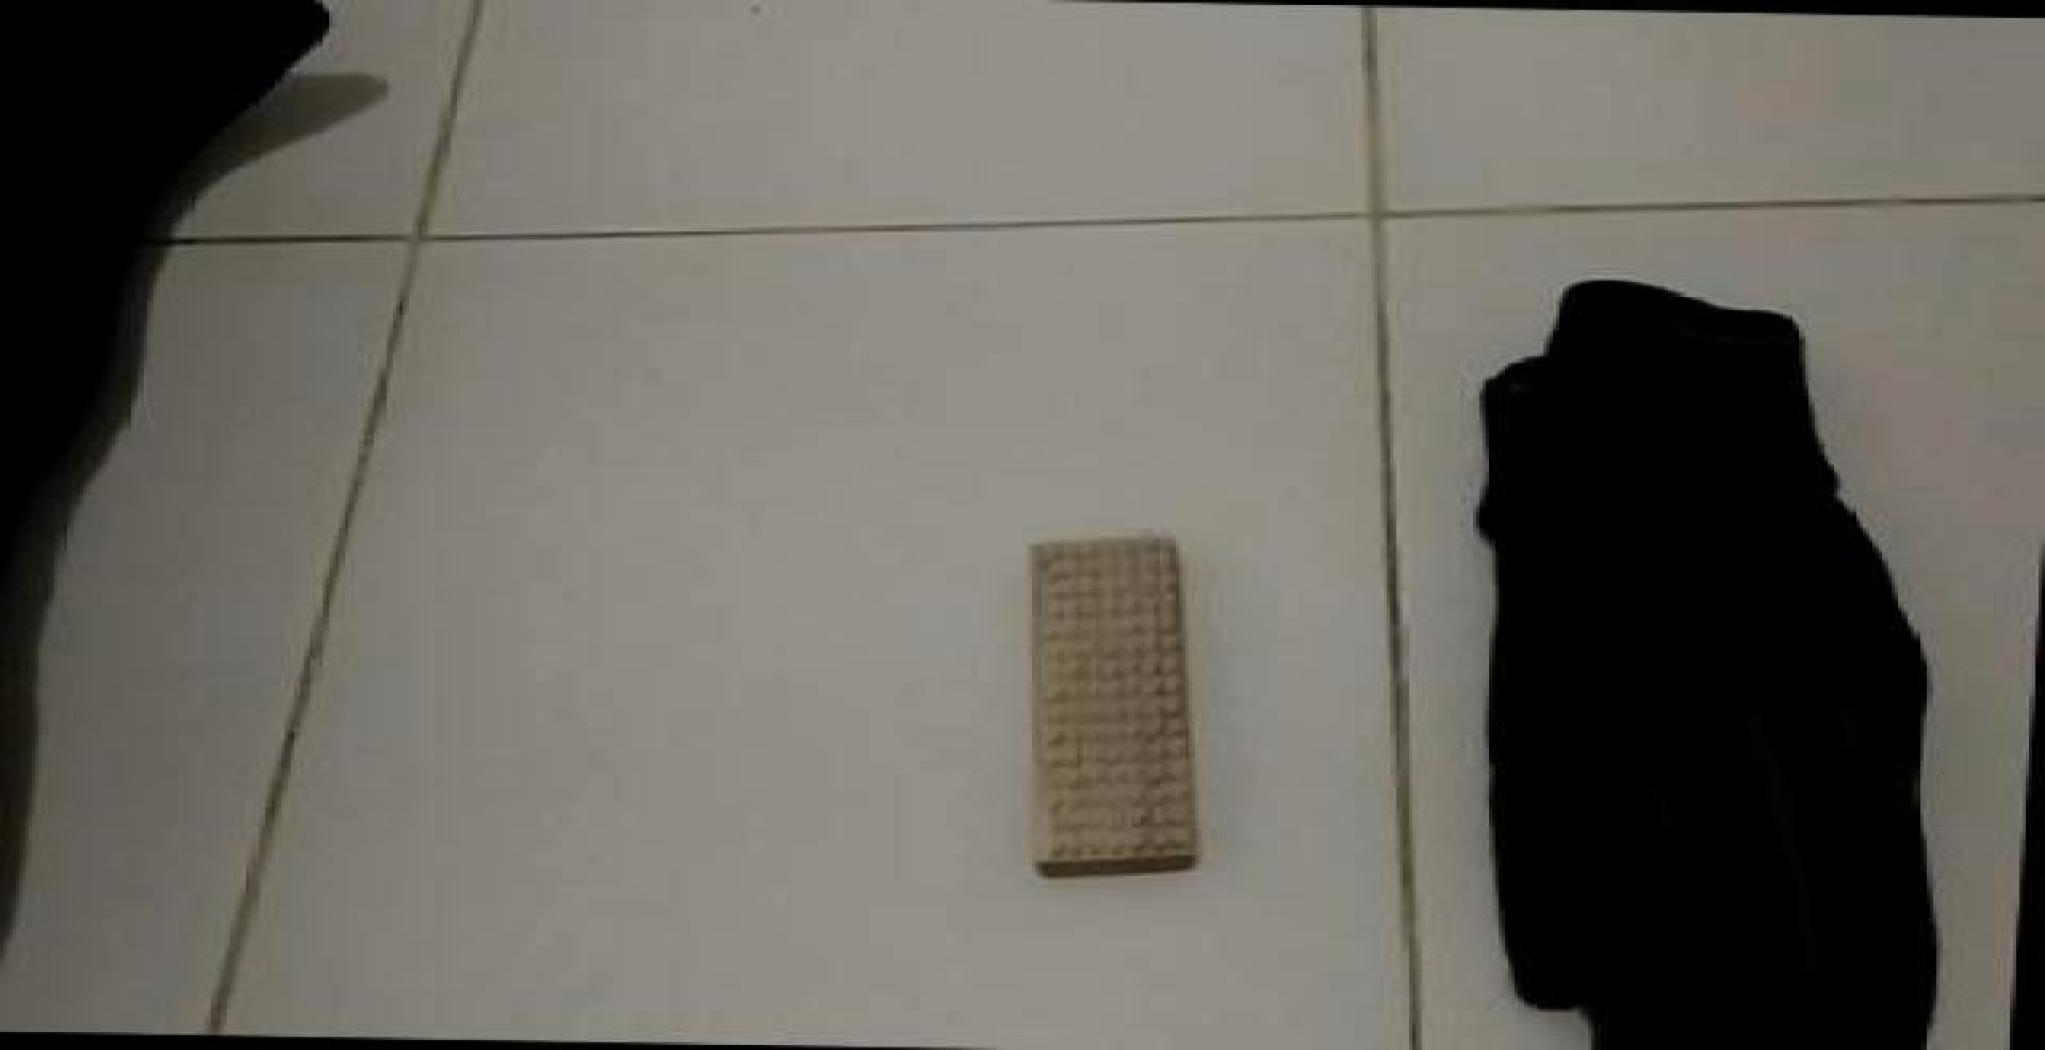gloved: (1466, 276, 1939, 1046)
